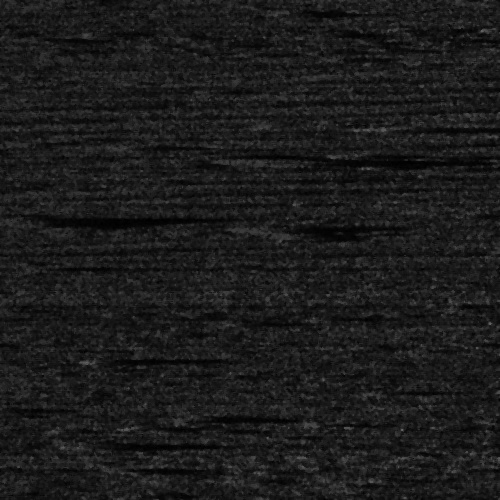object: (199, 155, 324, 168), (225, 219, 288, 234), (176, 398, 207, 427), (52, 438, 125, 445), (0, 212, 44, 223), (350, 125, 423, 130), (84, 356, 125, 361)
shadow: (262, 155, 419, 168), (12, 212, 193, 223), (257, 219, 369, 234), (89, 438, 209, 445), (192, 398, 213, 427), (105, 356, 223, 361), (387, 125, 500, 130)
